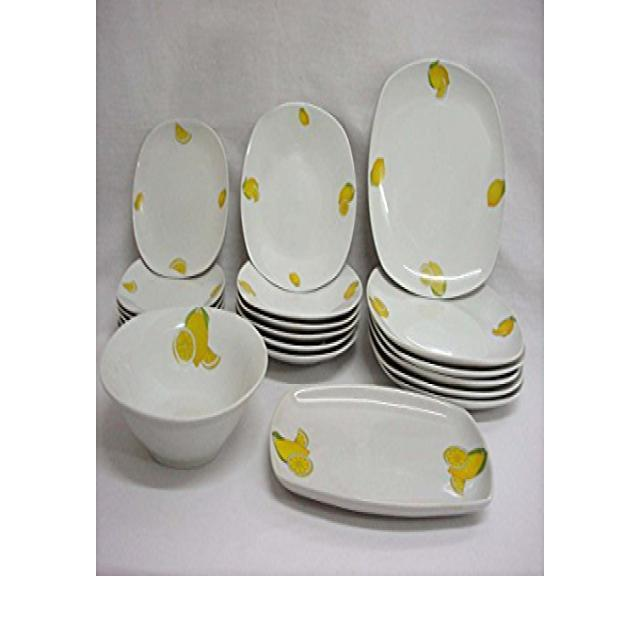ceramic plate: (371, 60, 509, 304), (242, 93, 357, 293), (132, 114, 228, 284)
